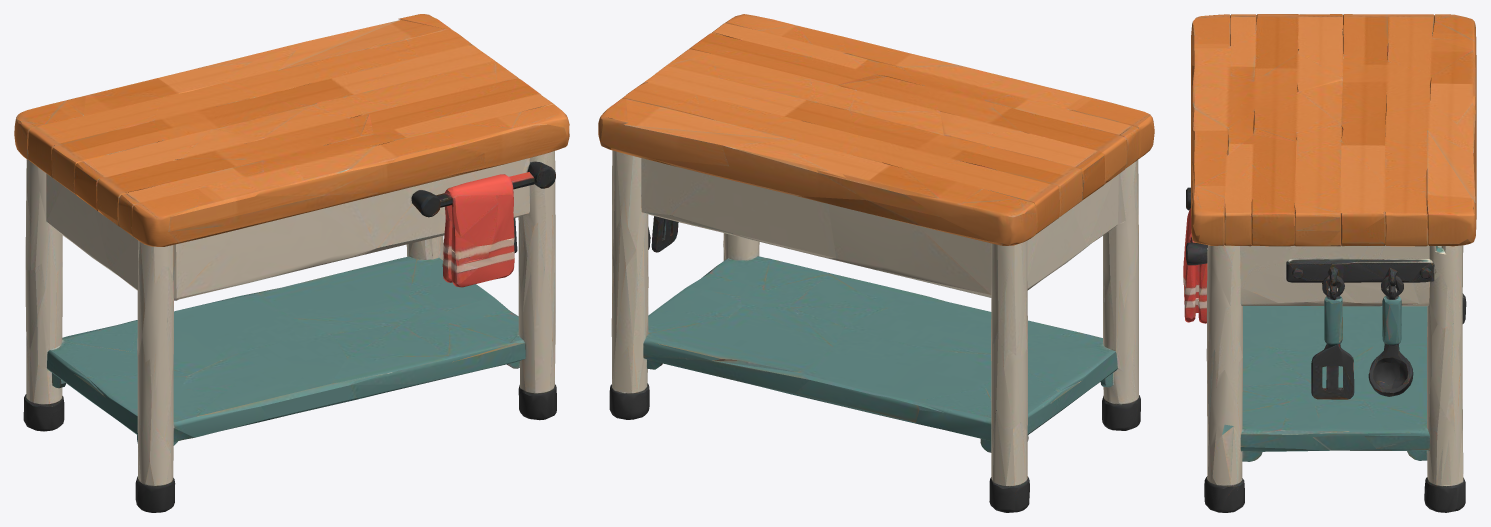
File: rounded-restaurant-prep-workbench-clear.glb
The picture shows the model from 3 angles, left to right: view 1: azimuth 30°, elevation 25°; view 2: azimuth 150°, elevation 25°; view 3: azimuth 270°, elevation 25°; orthographic projection.
Visible parts, largest first — view 1: Mesh_0; view 2: Mesh_0; view 3: Mesh_0.
Part boxes in pixels (x1,y1,x2,y2): Mesh_0: [14, 14, 569, 512]; Mesh_0: [598, 14, 1154, 512]; Mesh_0: [1183, 14, 1476, 512].
Size of the model in its own units: 1.2 by 0.7929 by 0.7.
1 material, 1 textured.
